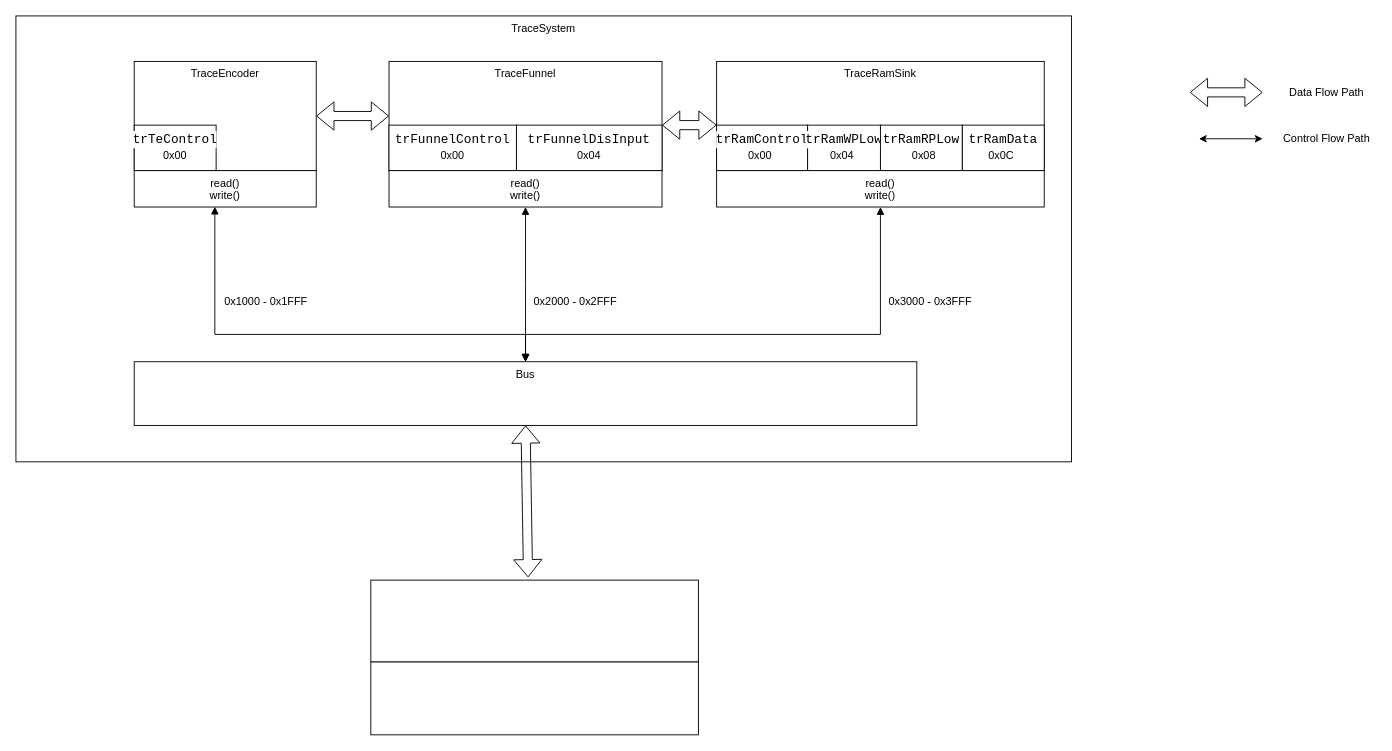
Image size: 1392x751. Some labels were removed from this diagram. The centre of each missing label's shape, as x and y in pixels:
configure() start() fetch() stop(): point 534,698
TraceControllerInterface: point 534,620
